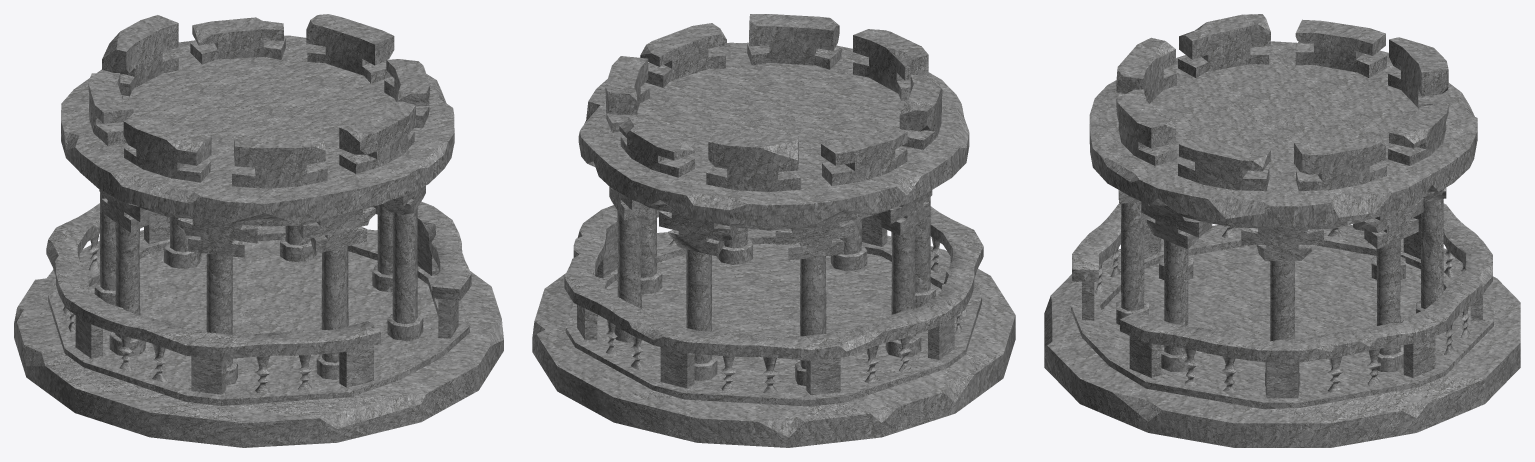
Rendered from materials_3_building_4.fbx.
3 views of the same model, side by side, from view 1: azimuth 30°, elevation 25°; view 2: azimuth 150°, elevation 25°; view 3: azimuth 270°, elevation 25° (orthographic).
Parts seen in each view (by area): view 1: materials_3_building_4; view 2: materials_3_building_4; view 3: materials_3_building_4.
Part boxes in pixels (x1=…): materials_3_building_4: x1=14, y1=14, x2=503, y2=447; materials_3_building_4: x1=532, y1=14, x2=1015, y2=447; materials_3_building_4: x1=1044, y1=14, x2=1520, y2=447.
Bounding box in the file's own units: 727 × 454 × 727.
